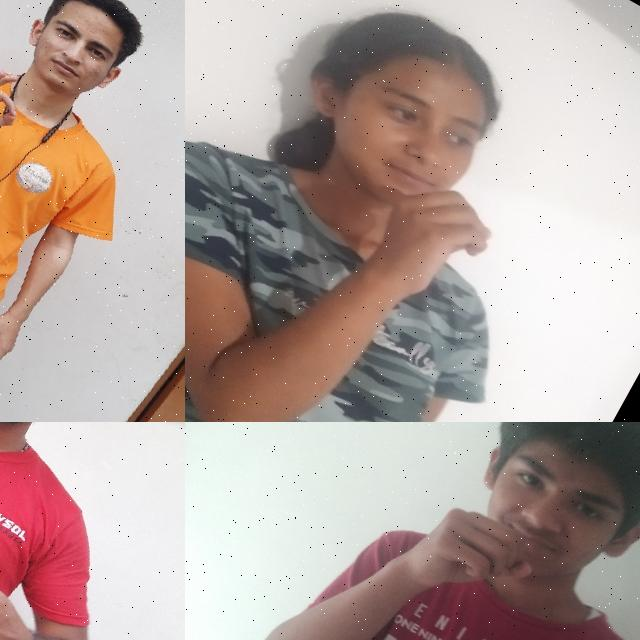Fist Mouth: (236, 0, 581, 314), (358, 422, 640, 640)
Okay: (0, 51, 41, 157)
Reversed Victory: (0, 504, 63, 640)
